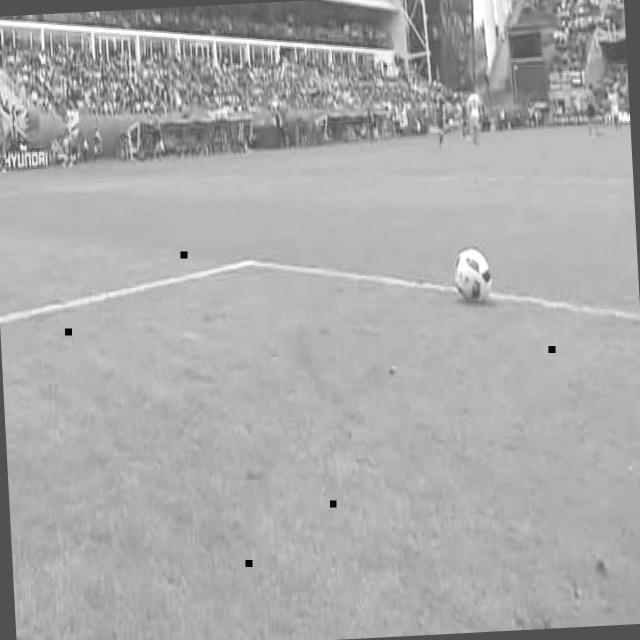ball: (454, 245, 492, 303)
player-white: (467, 87, 483, 145), (432, 88, 446, 148), (585, 83, 600, 137), (609, 82, 622, 130)
